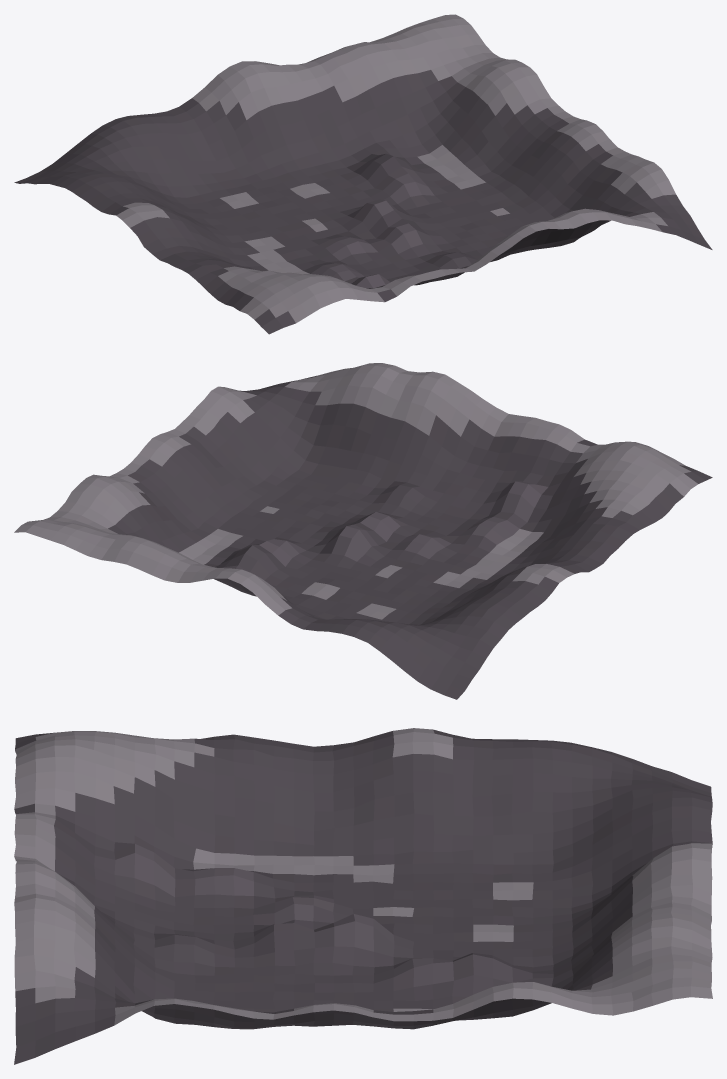
File: level01.fbx
3 views of the same model, one above another, from view 1: azimuth 30°, elevation 25°; view 2: azimuth 150°, elevation 25°; view 3: azimuth 270°, elevation 25° (orthographic). The views are drawn at different scales.
Visible parts, largest first — view 1: Plane; view 2: Plane; view 3: Plane.
Boxes of the visible parts, x1=… form: Plane: x1=14, y1=14, x2=712, y2=334; Plane: x1=14, y1=363, x2=712, y2=699; Plane: x1=14, y1=728, x2=712, y2=1064.
Size of the model in its own units: 8105 by 1348 by 8107.
1 material, 1 textured.
